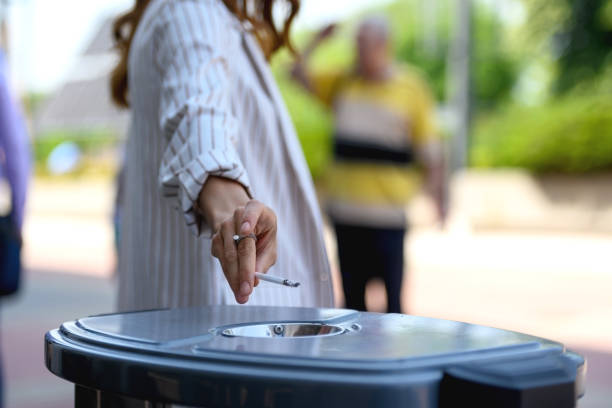cigarette: (254, 270, 302, 289)
